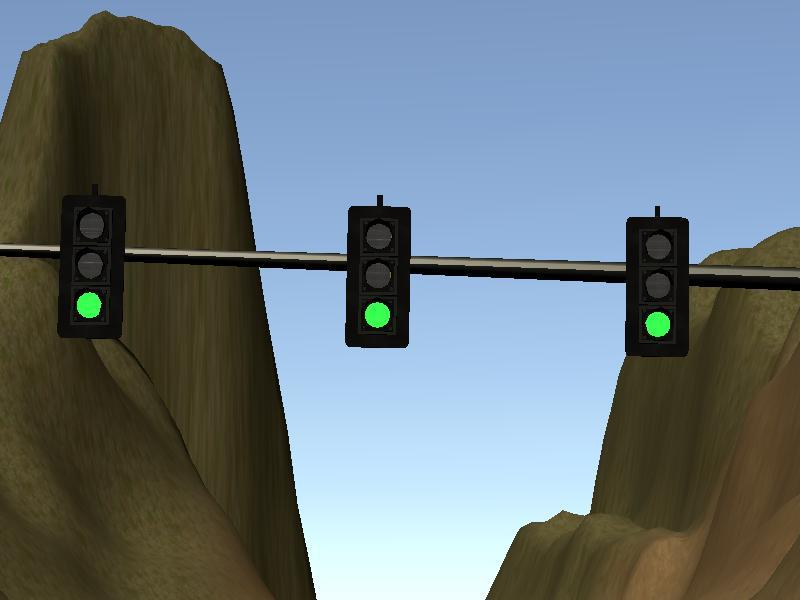Green: (346, 207, 409, 347), (627, 221, 689, 355), (63, 196, 121, 335)
